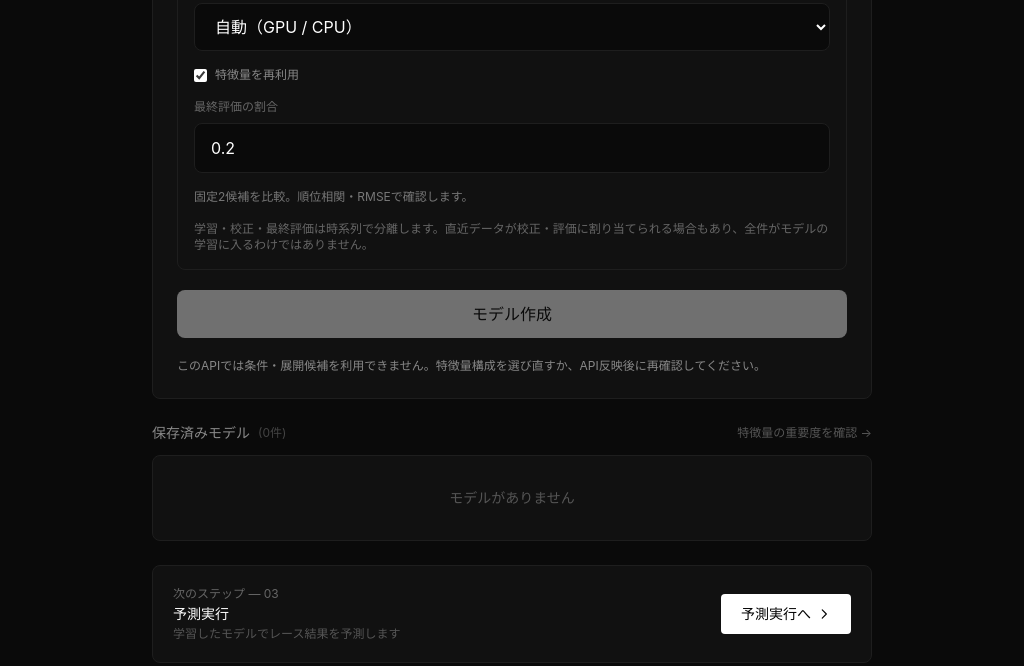
normal model creation using the shared DB feature pipeline › does not start a restored context selection against an older API
(page scrolled)
Check: the text "このAPIでは条件・展開候補を利用できません。特徴量構成を選び直すか、API反映後に再確認してください。" is shown, box [177,358,847,374]
Click the button "モデル作成": [512, 314] box [177,290,847,338]
(page scrolled)
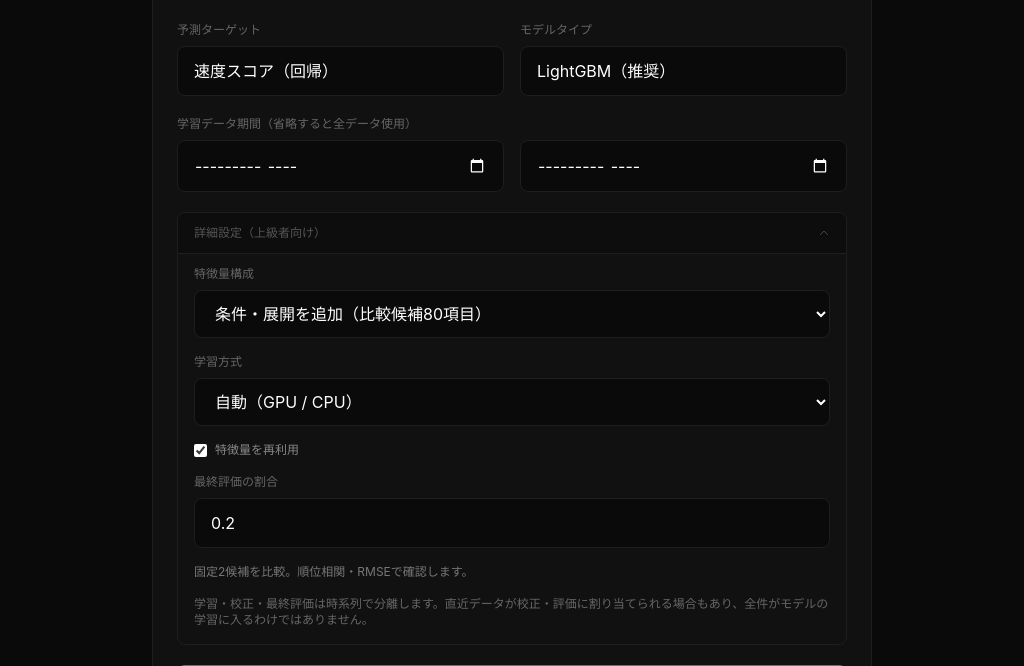
Select "候補46項目" in the dropdown labelled "特徴量構成": [512, 314] box [194,290,830,338]
(page scrolled)
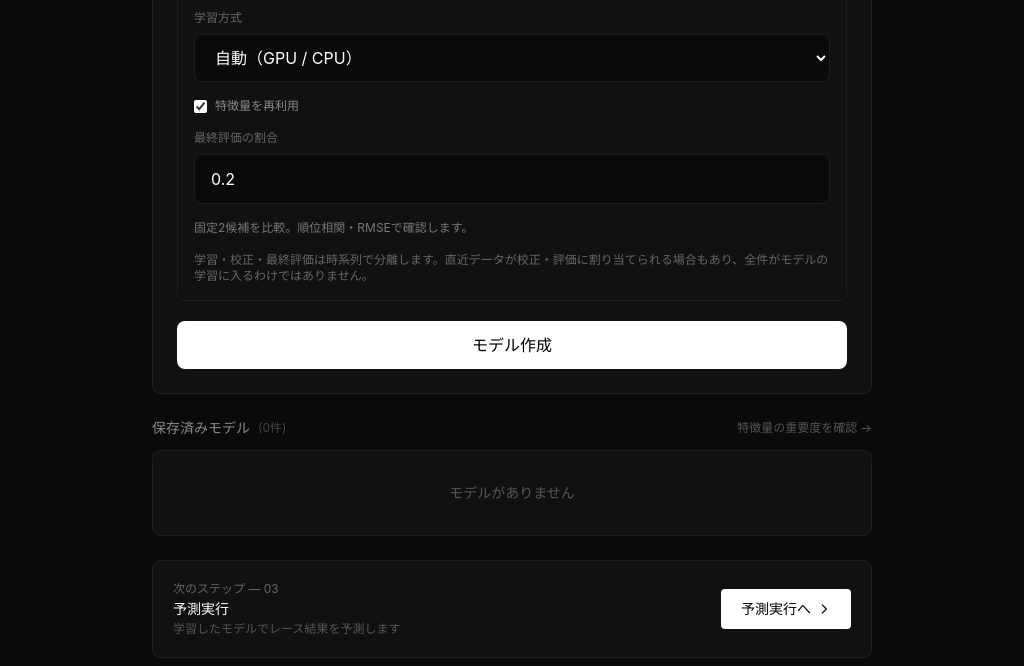
Check: the button "モデル作成" is enabled, box [177,321,847,369]
